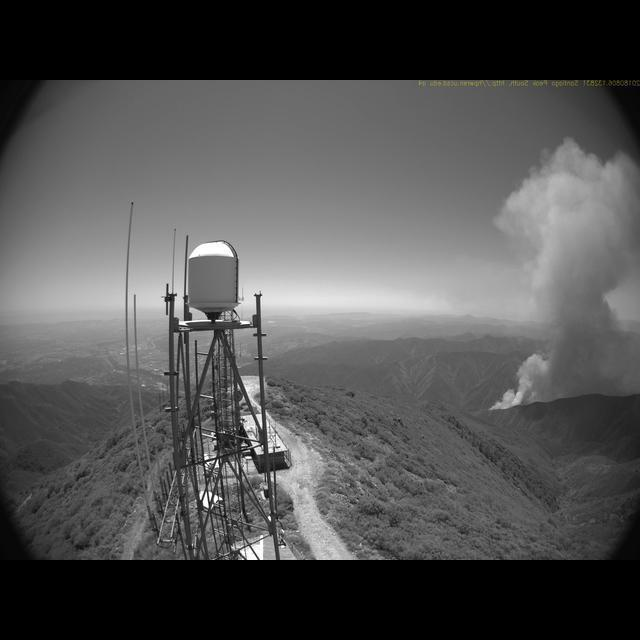Smoke: (478, 138, 639, 413)
